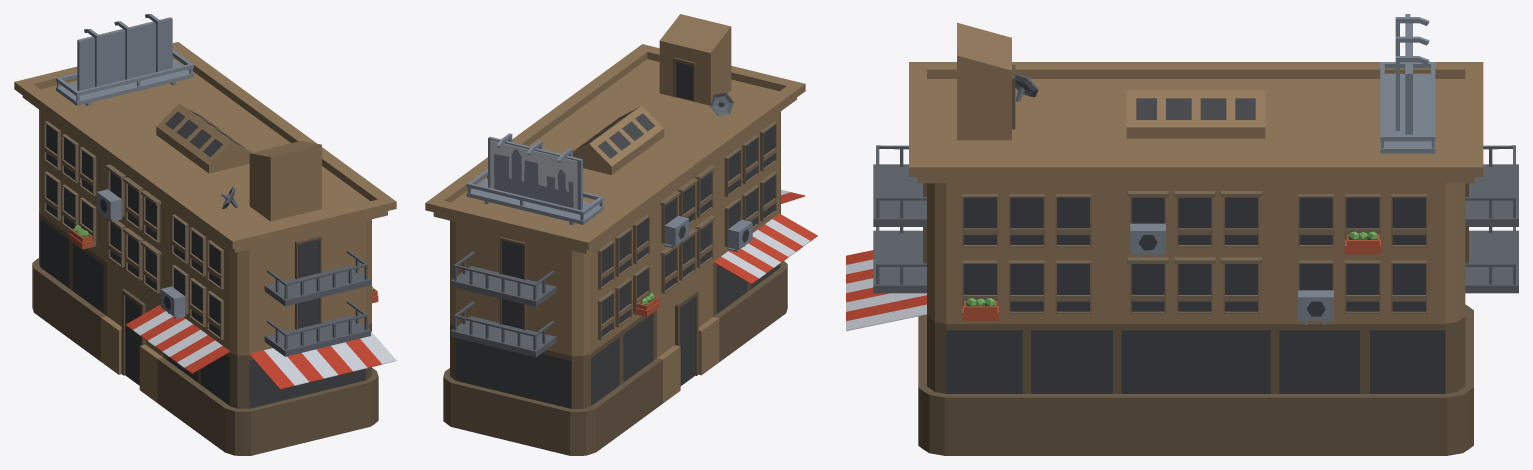
The model's file is Building_House_02.fbx.
3 views of the same model, side by side, from view 1: azimuth 30°, elevation 25°; view 2: azimuth 150°, elevation 25°; view 3: azimuth 270°, elevation 25° (orthographic). The views are drawn at different scales.
Parts seen in each view (by area): view 1: Building_House_02; view 2: Building_House_02; view 3: Building_House_02.
Boxes of the visible parts, box(x1,y1,x2,y2) form: Building_House_02: box(14, 14, 396, 455); Building_House_02: box(425, 14, 817, 455); Building_House_02: box(846, 14, 1518, 455).
Size of the model in its own units: 1065 by 1481 by 2448.
